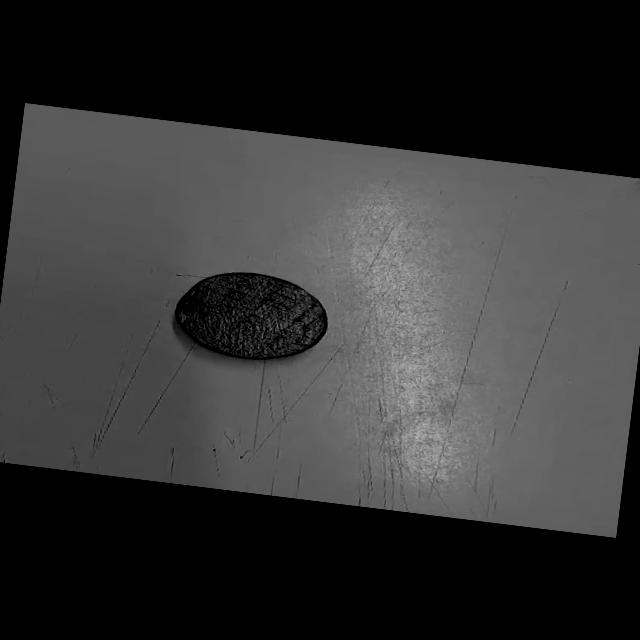rcircle: (175, 273, 328, 360)
